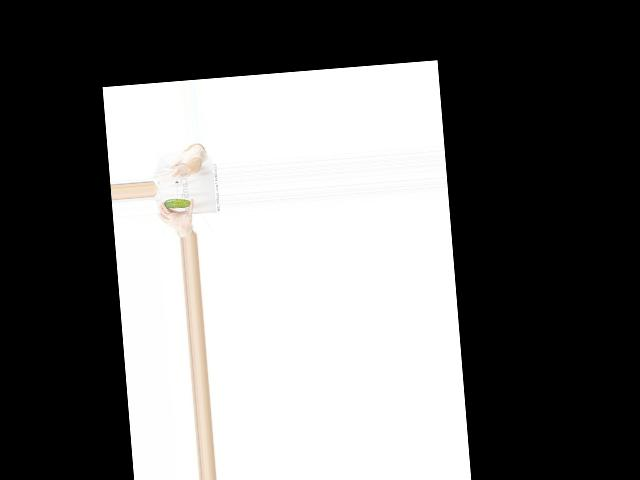cucumber: (163, 198, 191, 210)
